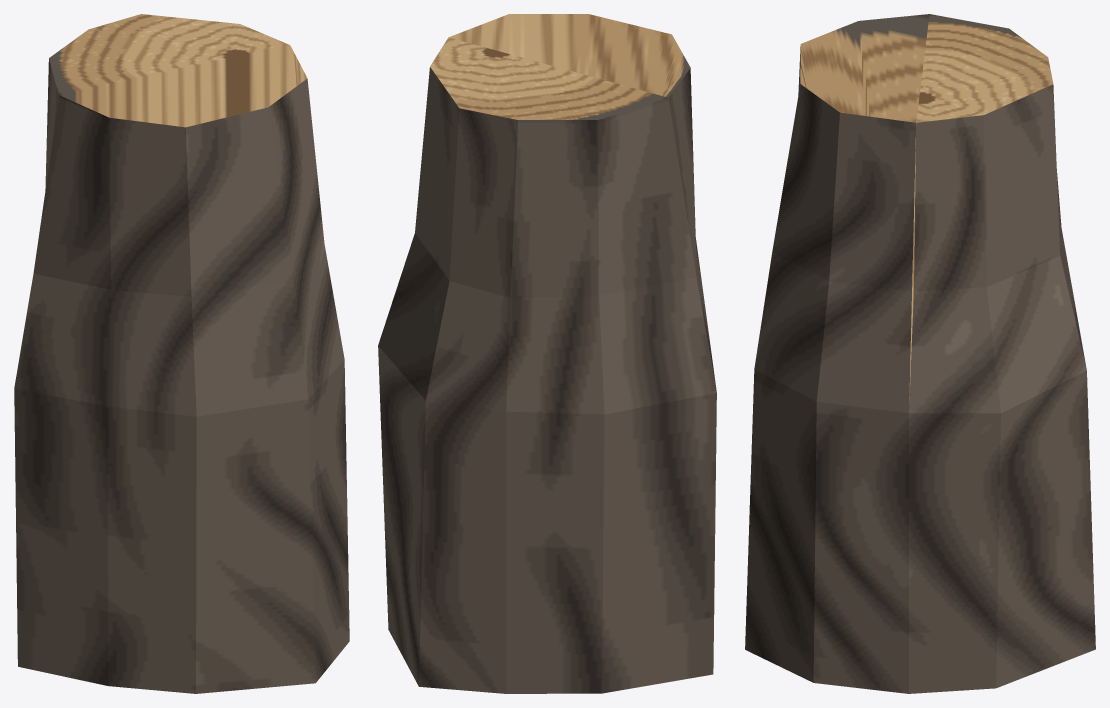
Rendered from environment_fir1_stump_v1.fbx.
3 renders of one model, left to right at view 1: azimuth 30°, elevation 25°; view 2: azimuth 150°, elevation 25°; view 3: azimuth 270°, elevation 25°, orthographic.
Parts seen in each view (by area): view 1: environment_fir1_stump_v1; view 2: environment_fir1_stump_v1; view 3: environment_fir1_stump_v1.
Part boxes in pixels (x1=…): environment_fir1_stump_v1: x1=14, y1=14, x2=349, y2=693; environment_fir1_stump_v1: x1=378, y1=14, x2=716, y2=693; environment_fir1_stump_v1: x1=745, y1=14, x2=1095, y2=693.
Bounding box in the file's own units: 112 × 200 × 114.
